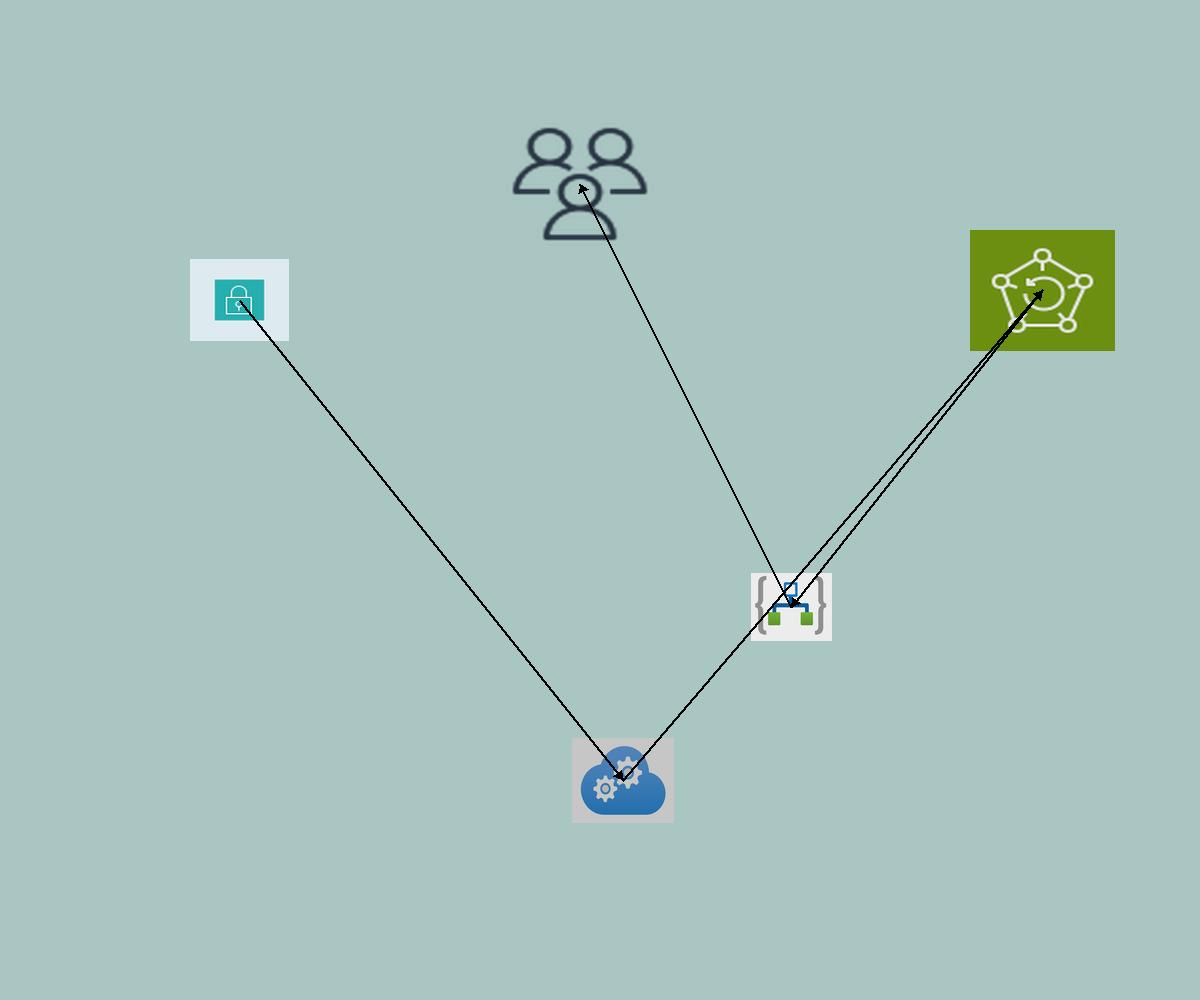AWS-Backup: (970, 230, 1115, 351)
AWS-Private-subnet: (190, 259, 289, 341)
AWS-Res_Users: (507, 123, 653, 245)
Azure_cloud_services: (572, 738, 674, 823)
Azure_integration-204-Logic-Apps: (751, 573, 832, 641)
